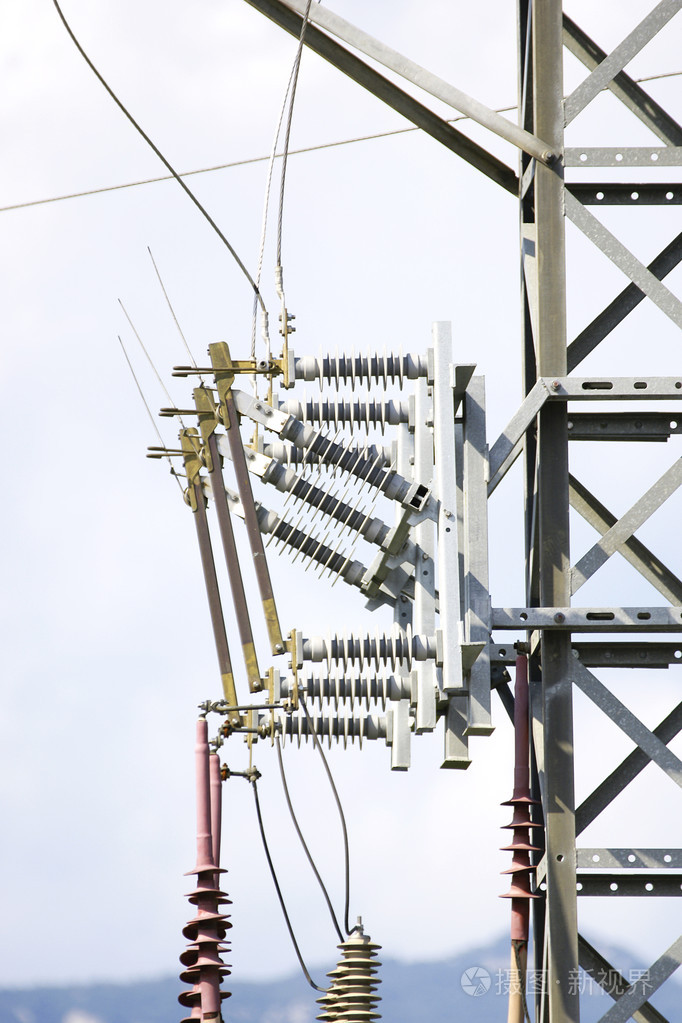insulator: (174, 857, 234, 1006), (310, 422, 393, 504), (287, 460, 372, 539), (264, 512, 353, 584), (494, 789, 544, 913), (264, 704, 372, 757), (325, 621, 418, 671), (334, 939, 389, 1023), (311, 347, 408, 394), (297, 670, 403, 713), (298, 392, 405, 431)
